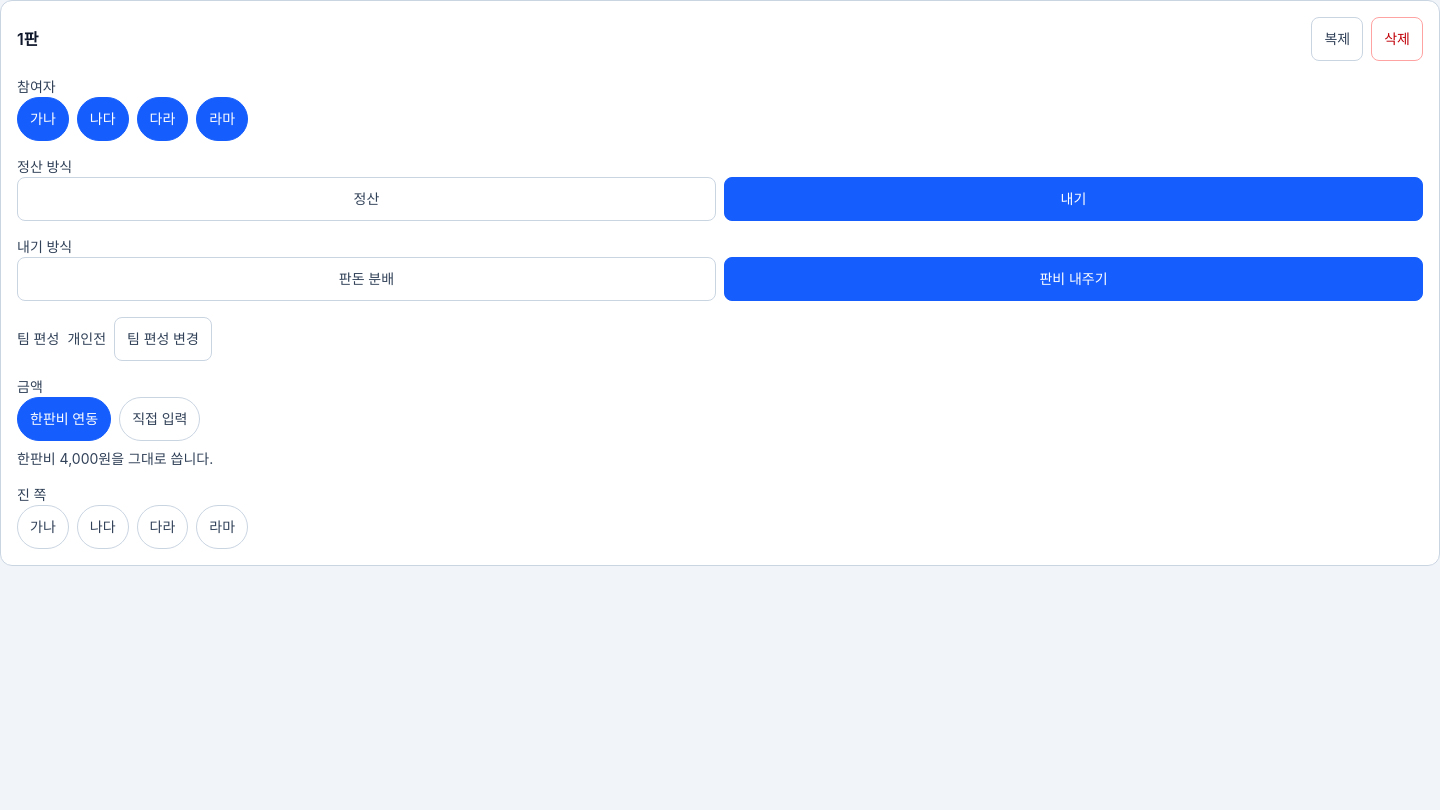
Test: RoundCard › transfer 금액 소스를 직접 입력으로 바꾸면 금액 필드가 나온다
The width and height of the screenshot is (1440, 810).
Expected: the text "한판비 4,000원을 그대로 씁니다." is shown, [17,450,213,467]
Click the button "직접 입력".
click(160, 419)  # box [119,397,200,441]
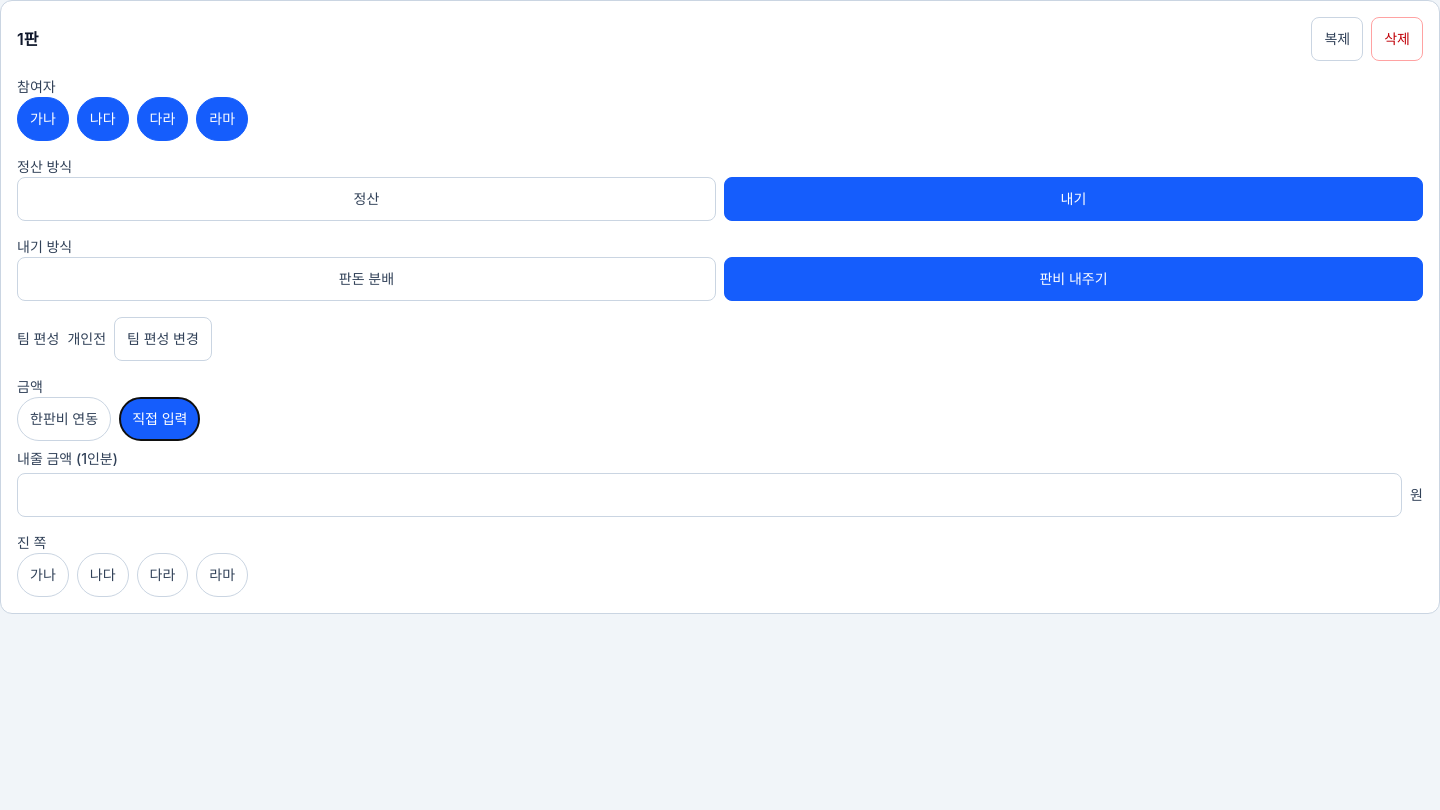
Now the field labelled "내줄 금액 (1인분)" is shown, box [17,473,1402,517]
